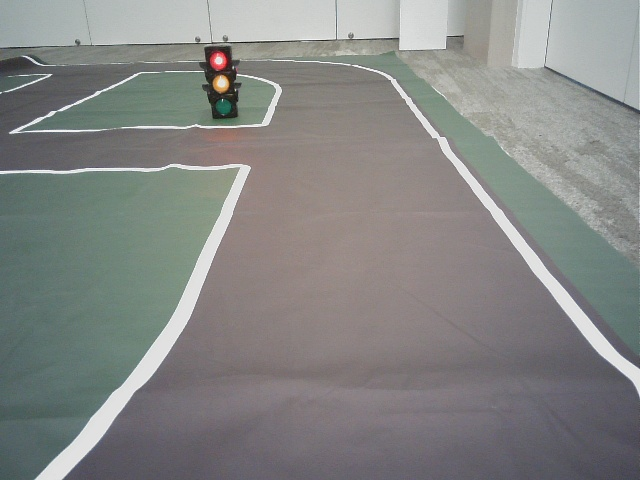red: (206, 50, 236, 114)
